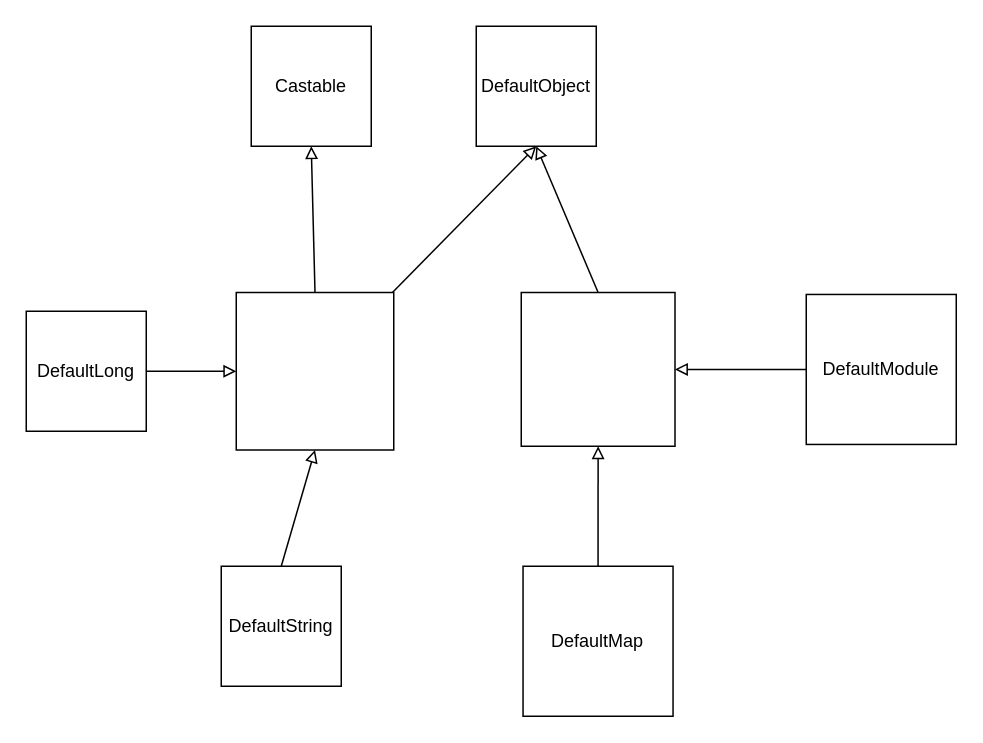
Some shapes in this 983 by 743 pixel diagram are drawn without their labels. The centre of each missing label's shape, as x and y in pixels:
"DefaultElement" belongs at [314,370].
"DefaultStruct" belongs at [597,368].
